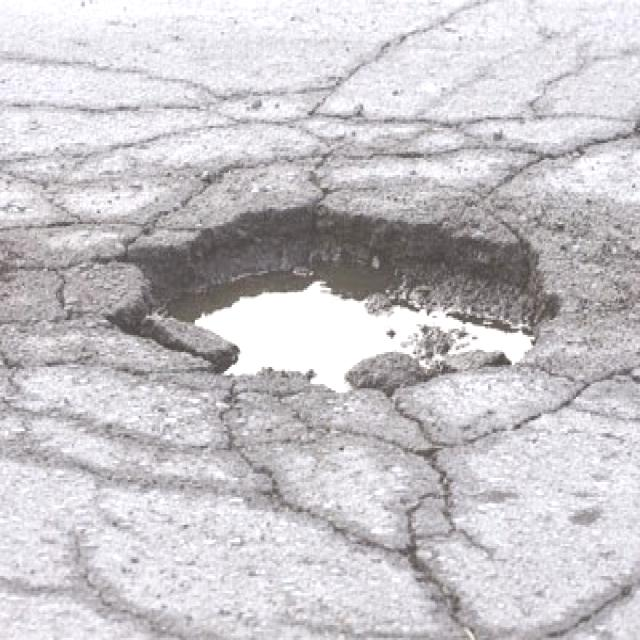Pothole: (87, 190, 569, 407)
